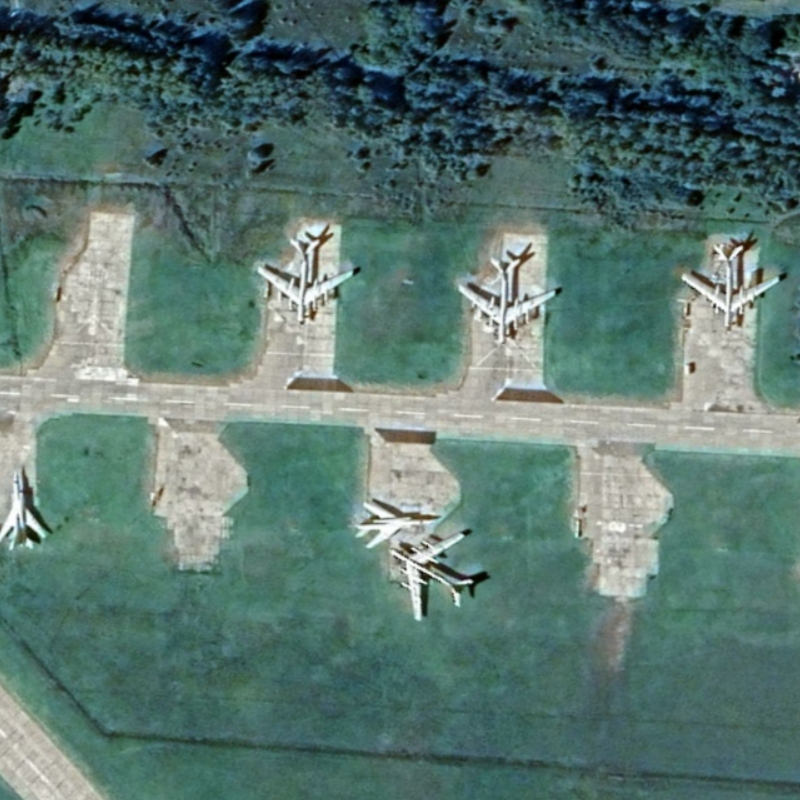A12: (353, 500, 437, 551), (1, 470, 48, 552)
A17: (680, 242, 781, 332), (456, 257, 558, 345), (256, 237, 355, 326), (387, 530, 475, 623)
